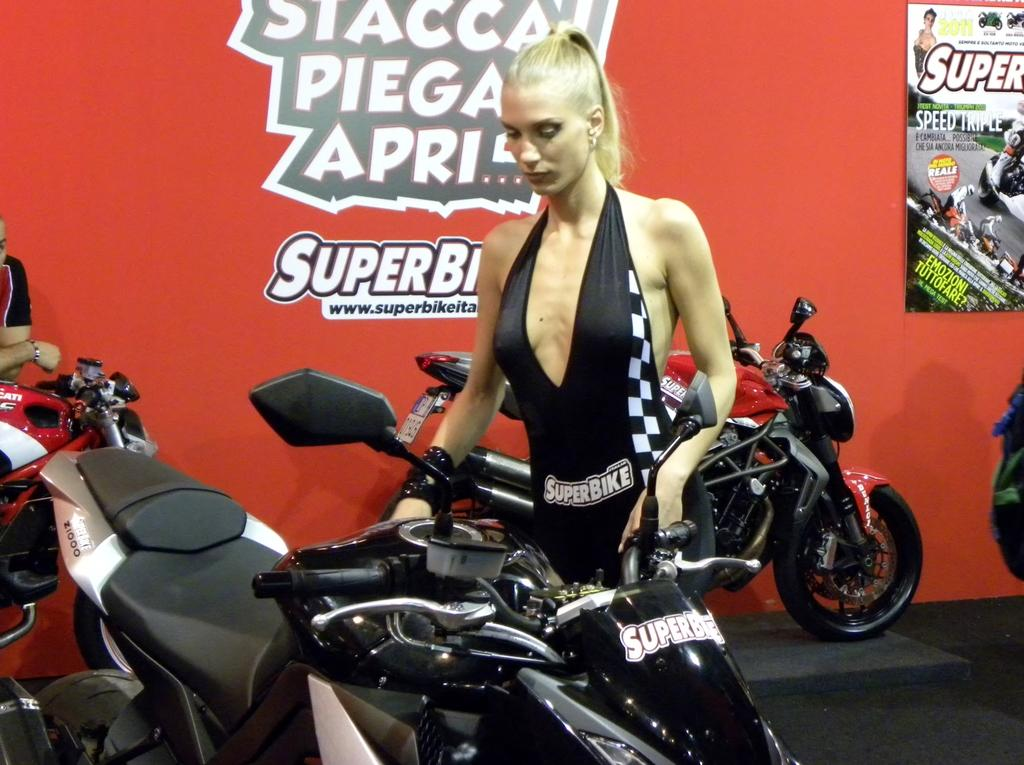Motorcycle: (0, 374, 831, 764)
